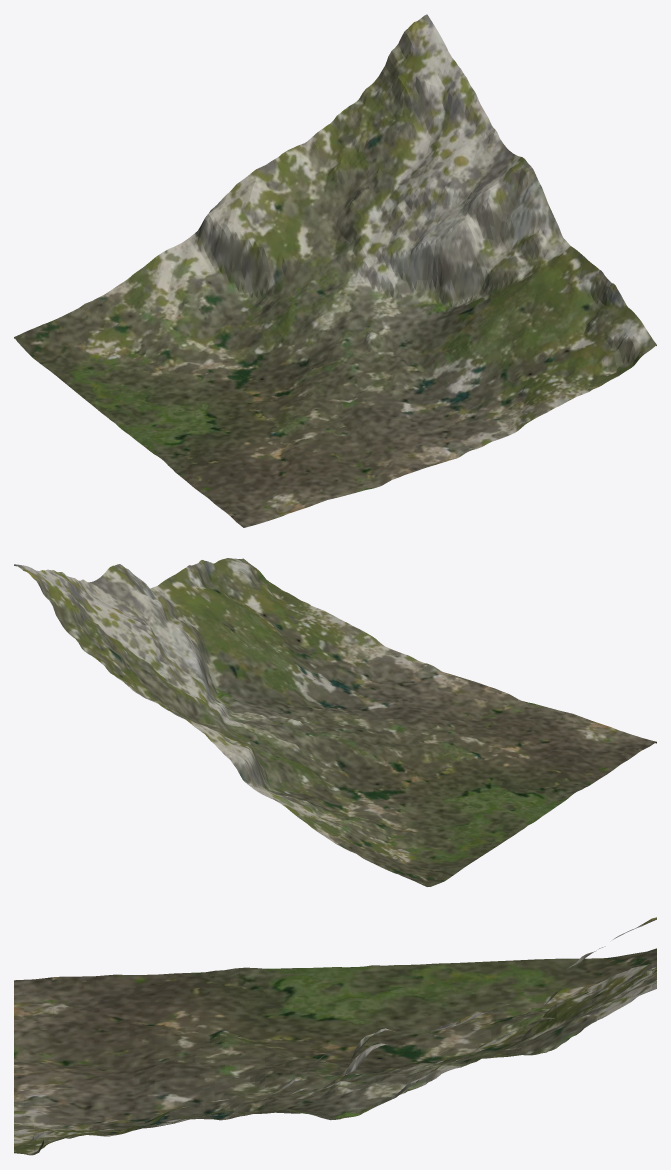
The picture shows the model from 3 angles, top to bottom: view 1: azimuth 30°, elevation 25°; view 2: azimuth 150°, elevation 25°; view 3: azimuth 270°, elevation 25°; orthographic projection. The views are drawn at different scales.
Bounding box in the file's own units: 250 × 143 × 241.
1 material, 1 textured.
